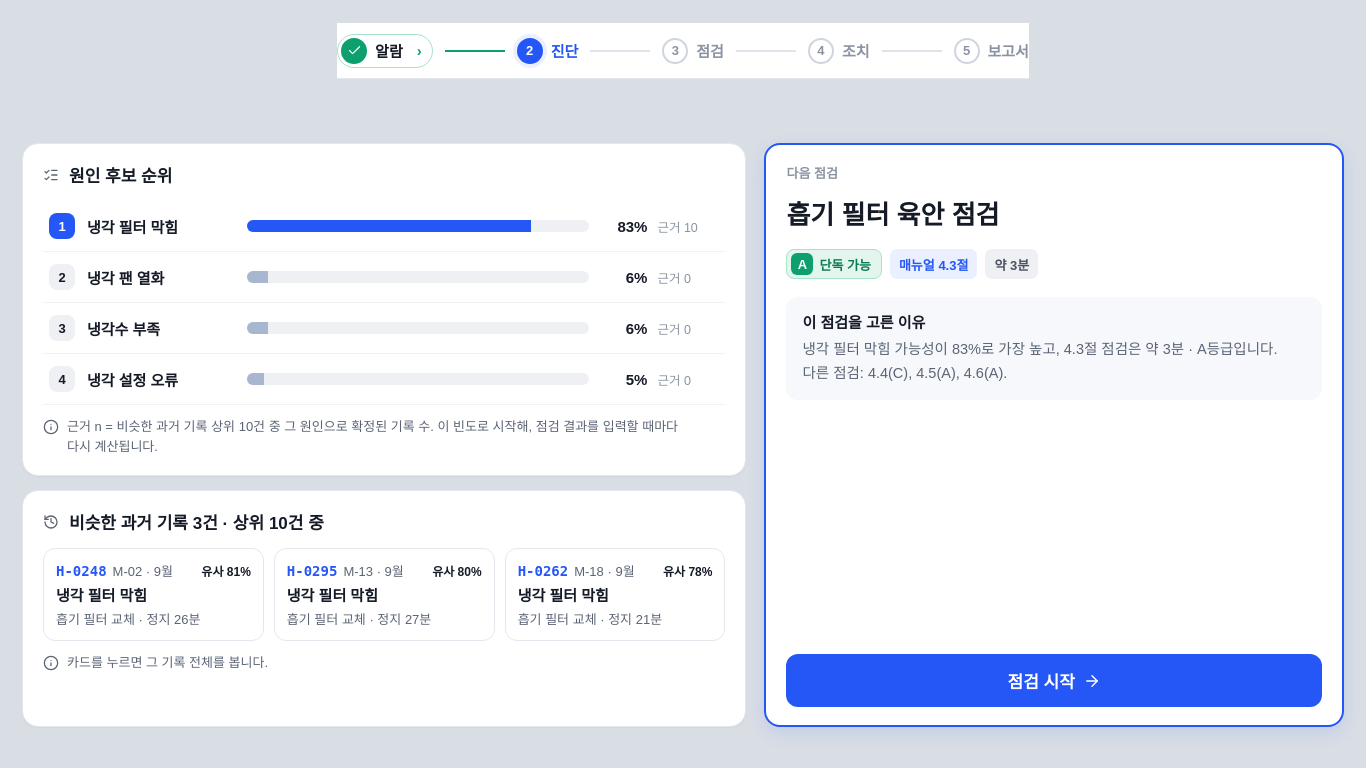
Scenario: 진행 표시 · 세션 연결(AC-41 · 생성자 해석 ①) › 잠금 전 세션(T04 진단 · T05 잠금 전): 완료 단계도 pick — 누르면 그 단계 지난 화면(AC-41-C1, S-06 전 화면 대조에서 발견)
Click the button "알람" at coordinates (385, 50), box [337,34,433,68]
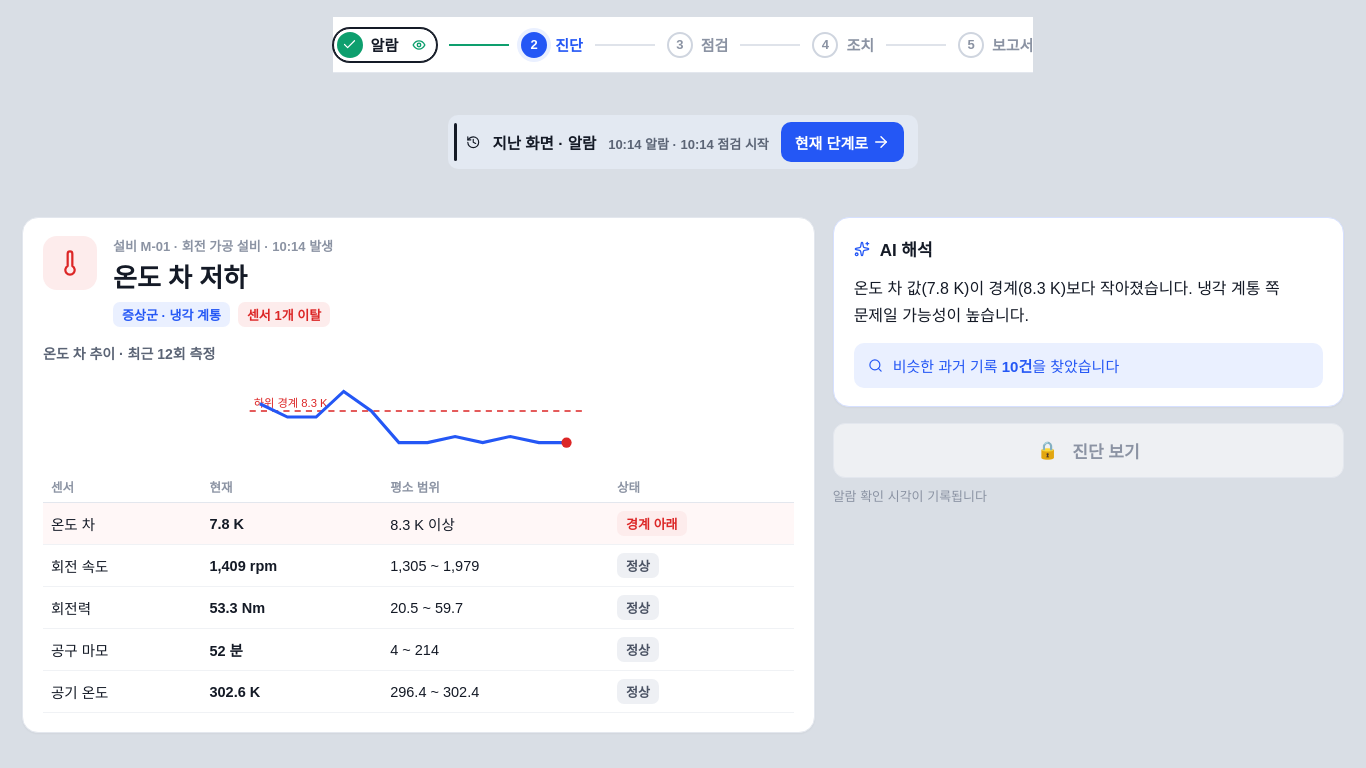
Expected: the text "지난 화면 · 알람" is shown, [492,131,596,153]
